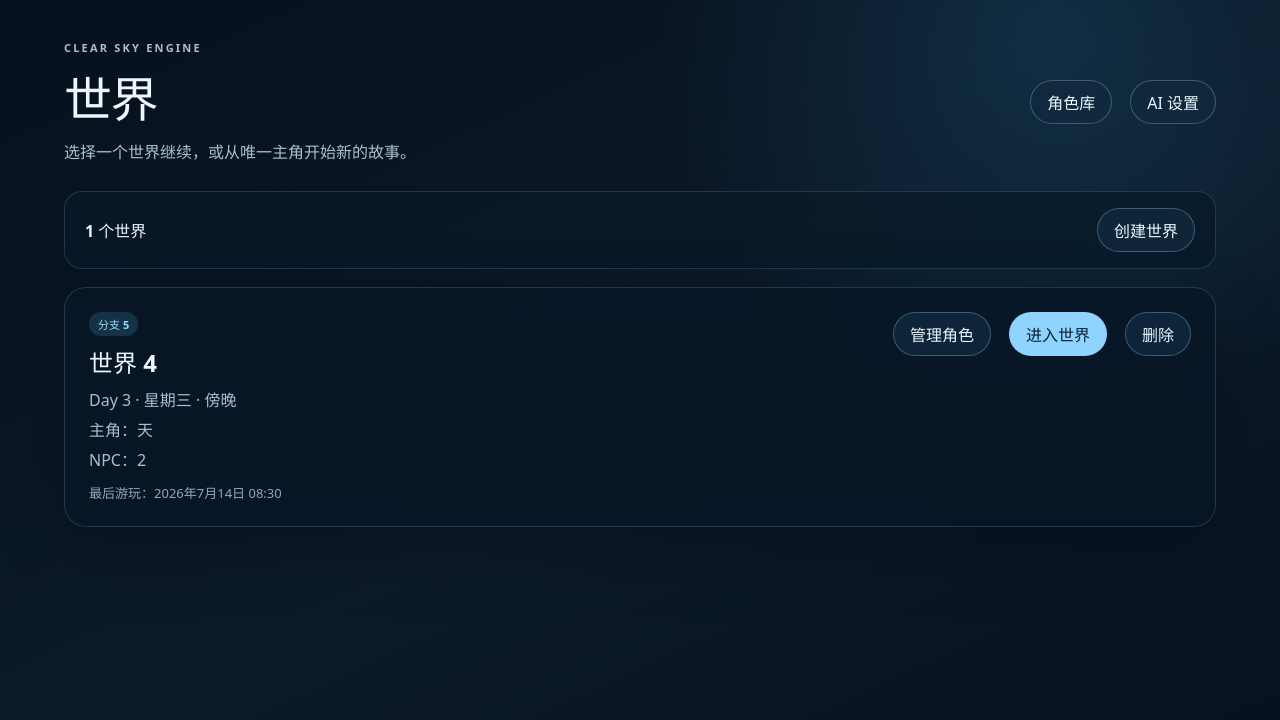
WorldListPage › renders only server world facts and confirms deletion
The width and height of the screenshot is (1280, 720).
Expected: the heading "世界 4" is shown, [89,346,157,379]
Expected: the text "Day 3 · 星期三 · 傍晚" is shown, [89,389,236,411]
Click the button with aria-label "删除世界 世界 4" at point(1158, 334), box [1125,312,1191,356]
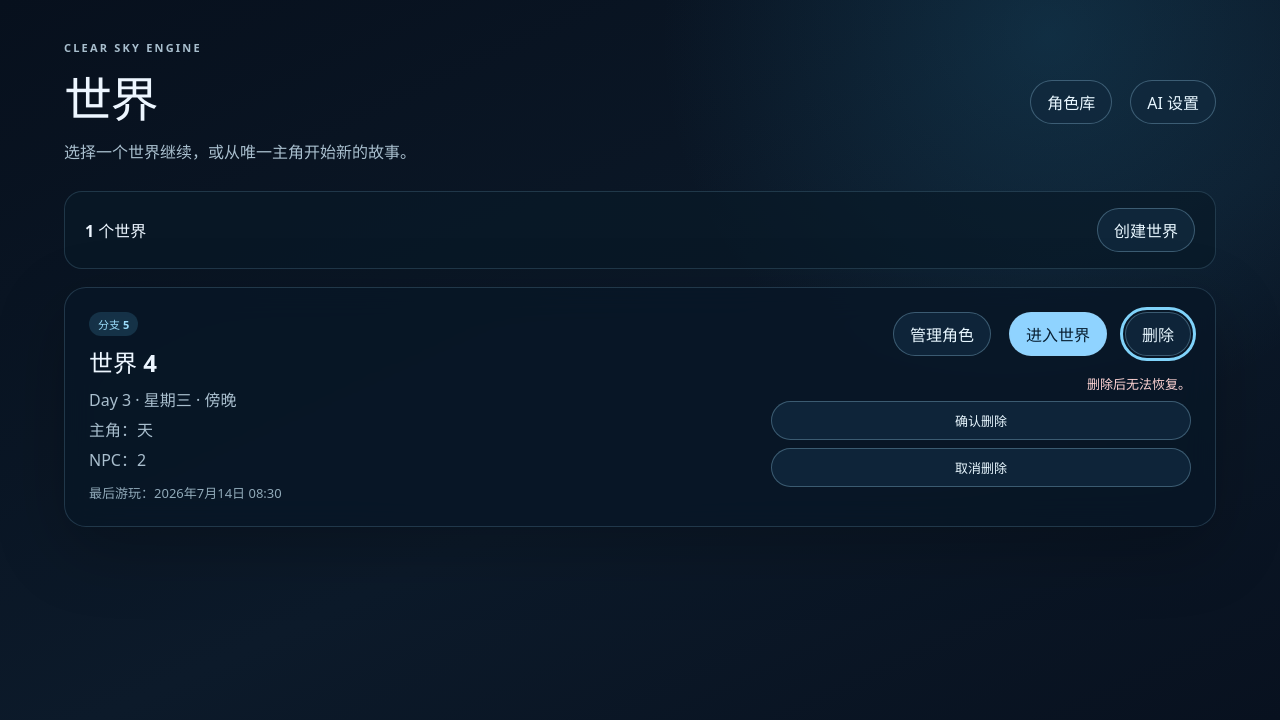
Expected: the text "删除后无法恢复。" is shown, [1087,375,1191,393]
Click the button with aria-label "确认删除 世界 4" at point(981, 420), box [771,401,1191,440]
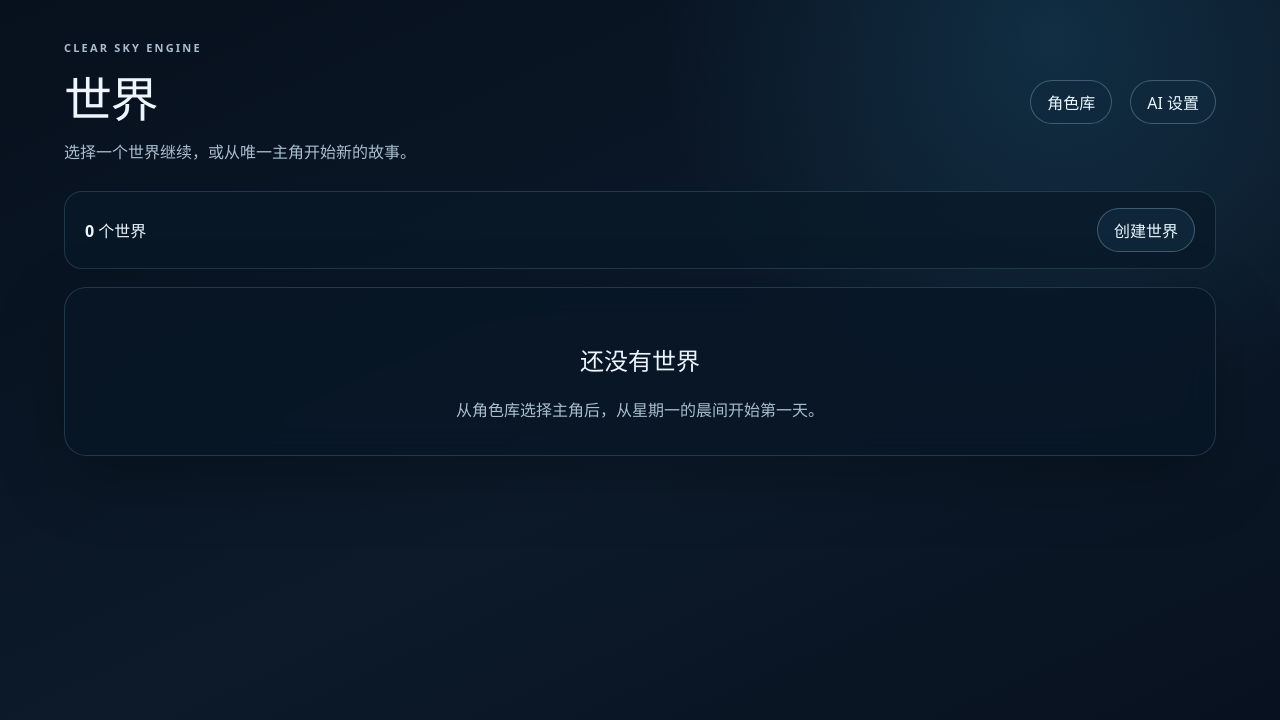
Expected: the heading "世界 4" is gone
